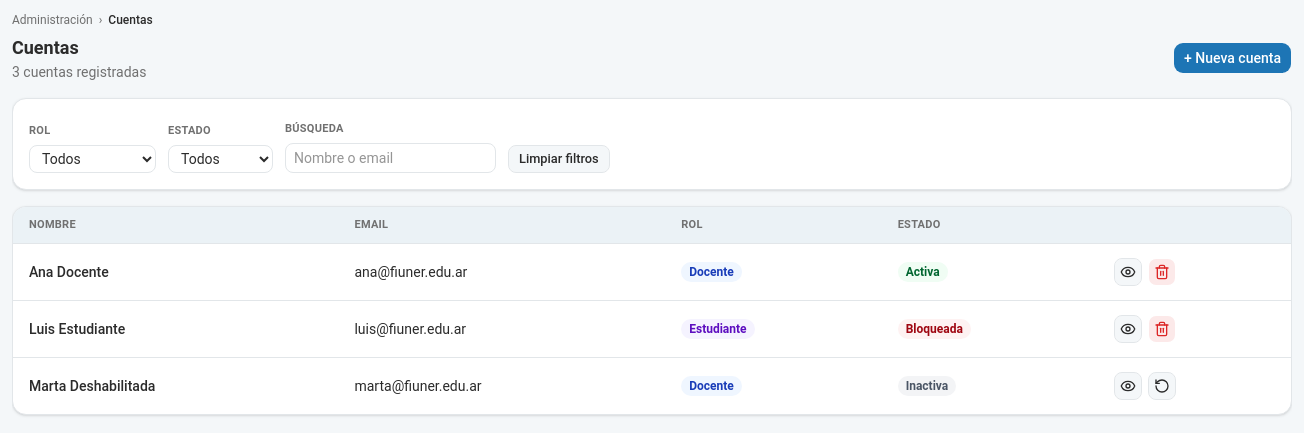
Test: Cuentas › una cuenta deshabilitada muestra 'Inactiva' y 'Activar' en vez de 'Eliminar'; al activarla pasa a 'Activa'
expect the text "Marta Deshabilitada" is shown: met, box [13,357,338,414]
expect the text "Inactiva" is shown: met, box [898,376,956,396]
Click the button named "Activar": coordinates (1162, 386) [1148,372,1176,400]
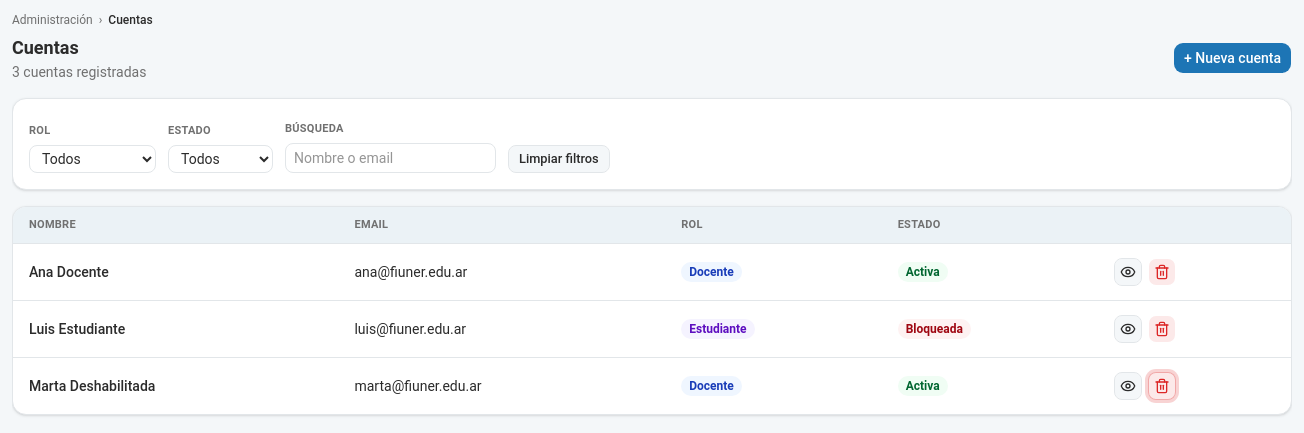
expect the button named "Eliminar" in the row of "Marta Deshabilitada" is shown: met, box [1148,372,1176,400]
